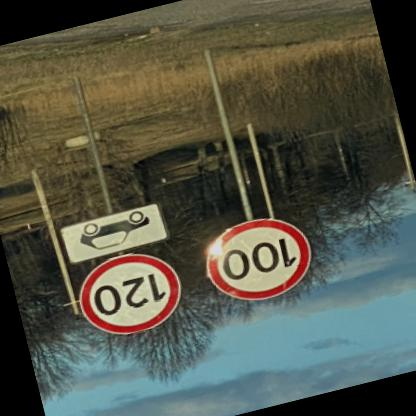speedlimit: (198, 209, 322, 314), (76, 243, 194, 345)
